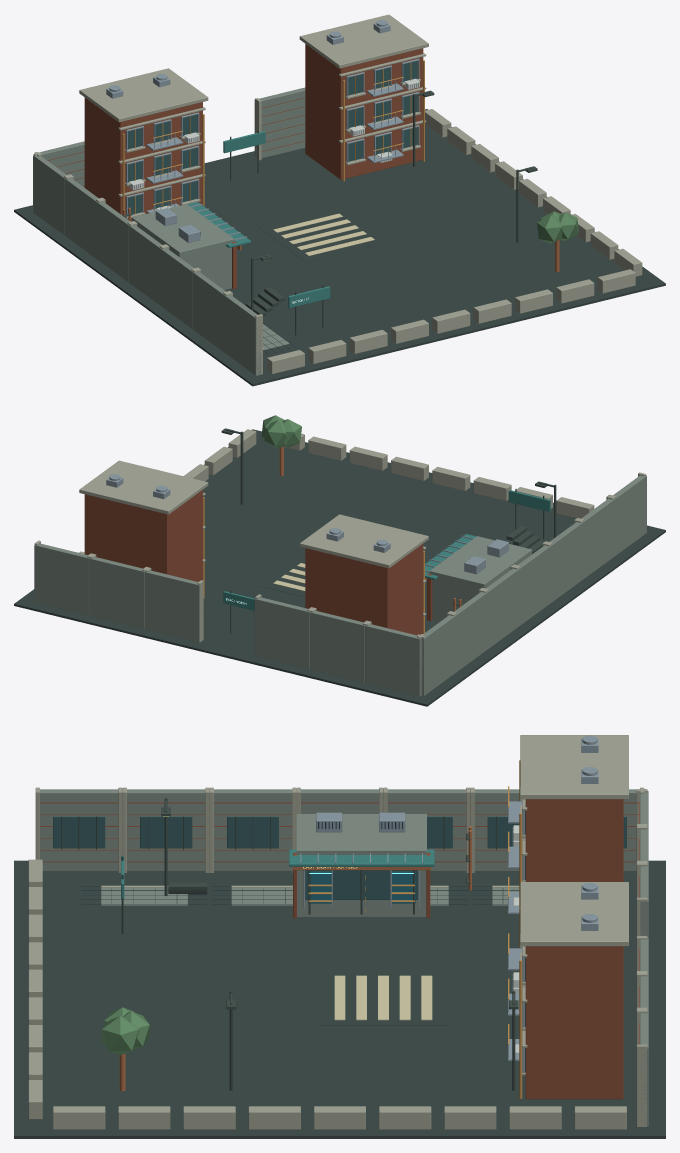
The model's file is chapter_street.glb.
3 views of the same model, one above another, from view 1: azimuth 30°, elevation 25°; view 2: azimuth 150°, elevation 25°; view 3: azimuth 270°, elevation 25° (orthographic). The views are drawn at different scales.
Visible parts, largest first — view 1: chapter_street; view 2: chapter_street; view 3: chapter_street.
Part boxes in pixels (<box>): chapter_street: <box>14,14,665,386</box>; chapter_street: <box>14,415,665,706</box>; chapter_street: <box>14,735,665,1138</box>.
Size of the model in its own units: 30 by 8.79 by 30.
